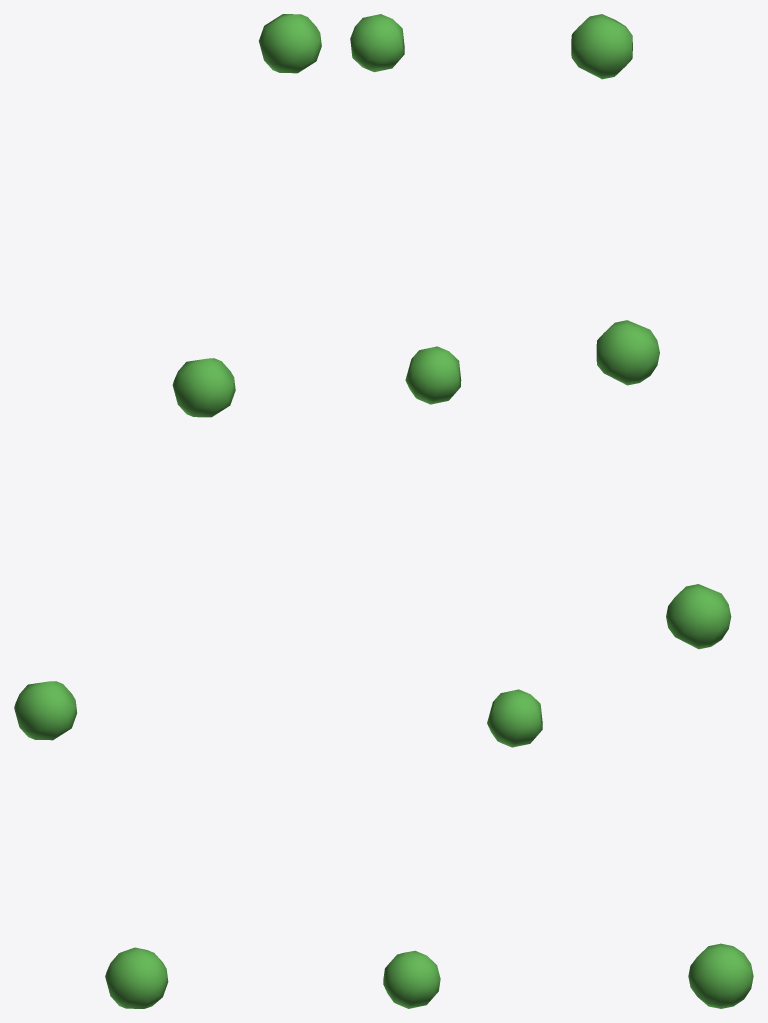
File: linfatico-inferior-superficial-inguinal-nodes-r.glb
3 renders of one model, left to right at view 1: azimuth 30°, elevation 25°; view 2: azimuth 150°, elevation 25°; view 3: azimuth 270°, elevation 25°, orthographic. The views are drawn at different scales.
Visible parts, largest first — view 1: Inferior superficial inguinal nodes.r; view 2: Inferior superficial inguinal nodes.r; view 3: Inferior superficial inguinal nodes.r.
Boxes of the visible parts, bbox=[...] form: Inferior superficial inguinal nodes.r: bbox=[14, 14, 321, 1008]; Inferior superficial inguinal nodes.r: bbox=[350, 14, 542, 1008]; Inferior superficial inguinal nodes.r: bbox=[571, 14, 753, 1008].
Bounding box in the file's own units: 0.0119 × 0.0454 × 0.00725.
